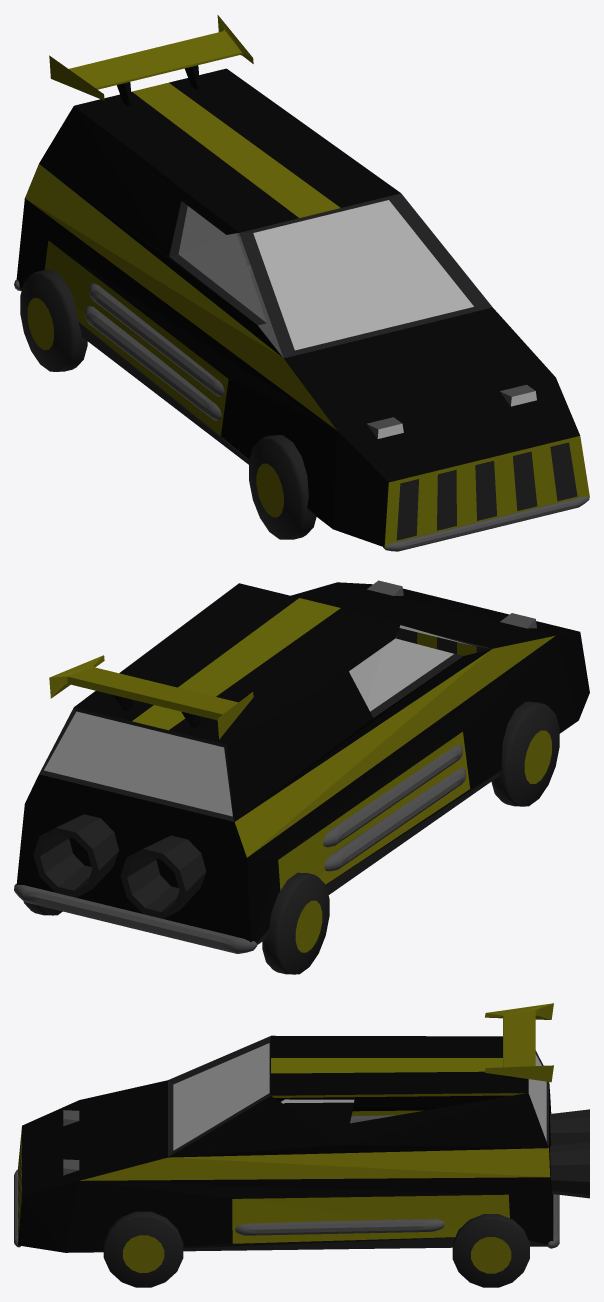
File: car1_by.fbx
3 renders of one model, top to bottom at view 1: azimuth 30°, elevation 25°; view 2: azimuth 150°, elevation 25°; view 3: azimuth 270°, elevation 25°, orthographic. The views are drawn at different scales.
Parts seen in each view (by area): view 1: Car, Spoiler, FLW, RLW, pCylinder4, pCylinder3, pCylinder6; view 2: Car, FLW, Spoiler, RLW, Rthrust, Lthrust, pCylinder5, pCylinder4, pCylinder3; view 3: Car, FRW, RRW, Spoiler, pCylinder2, Lthrust, Rthrust, pCylinder5.
Part boxes in pixels (box(x1,y1,x2,y2)): Car: box(16, 68, 589, 547); Spoiler: box(49, 15, 253, 106); FLW: box(249, 435, 316, 539); RLW: box(20, 270, 87, 371); pCylinder4: box(85, 306, 221, 420); pCylinder3: box(89, 283, 224, 396); pCylinder6: box(383, 496, 589, 551); Car: box(16, 580, 589, 944); FLW: box(491, 701, 559, 806); Spoiler: box(49, 655, 253, 739); RLW: box(262, 872, 329, 974); Rthrust: box(120, 835, 206, 918); Lthrust: box(33, 814, 119, 897); pCylinder5: box(14, 884, 256, 953); pCylinder4: box(324, 768, 465, 871); pCylinder3: box(323, 744, 462, 847); Car: box(18, 1035, 553, 1252); FRW: box(103, 1211, 183, 1287); RRW: box(452, 1214, 529, 1287); Spoiler: box(485, 1003, 553, 1082); pCylinder2: box(235, 1219, 444, 1235); Lthrust: box(550, 1141, 589, 1198); Rthrust: box(550, 1109, 589, 1145); pCylinder5: box(547, 1194, 559, 1248).
Size of the model in its own units: 3.69 by 3.59 by 9.07.
